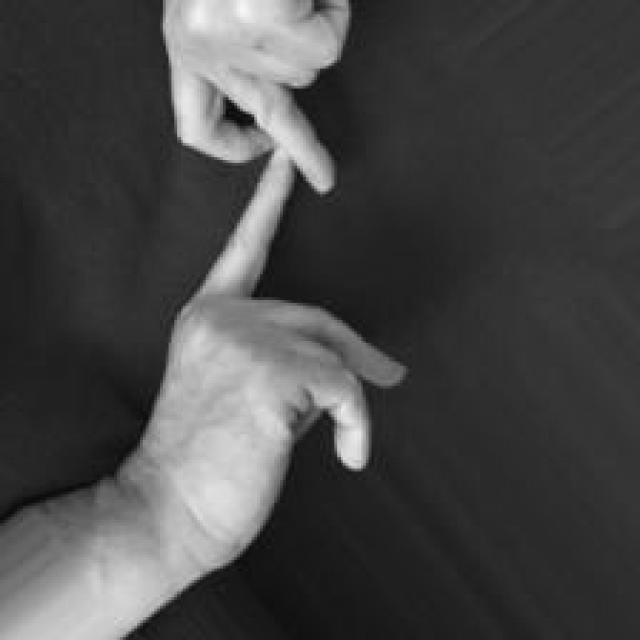R: (140, 0, 412, 611)
